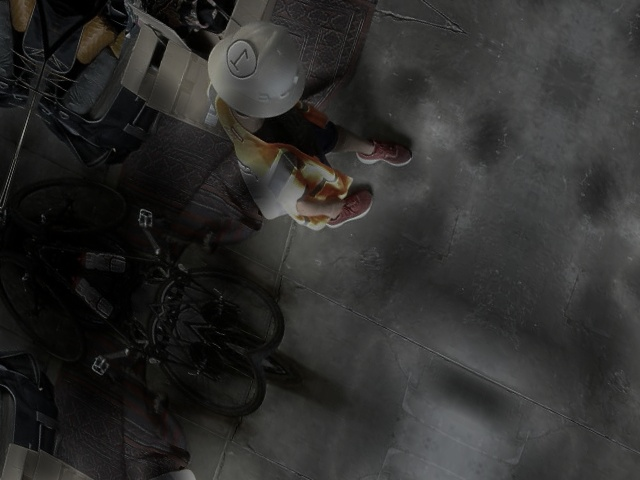one: (220, 33, 261, 83)
